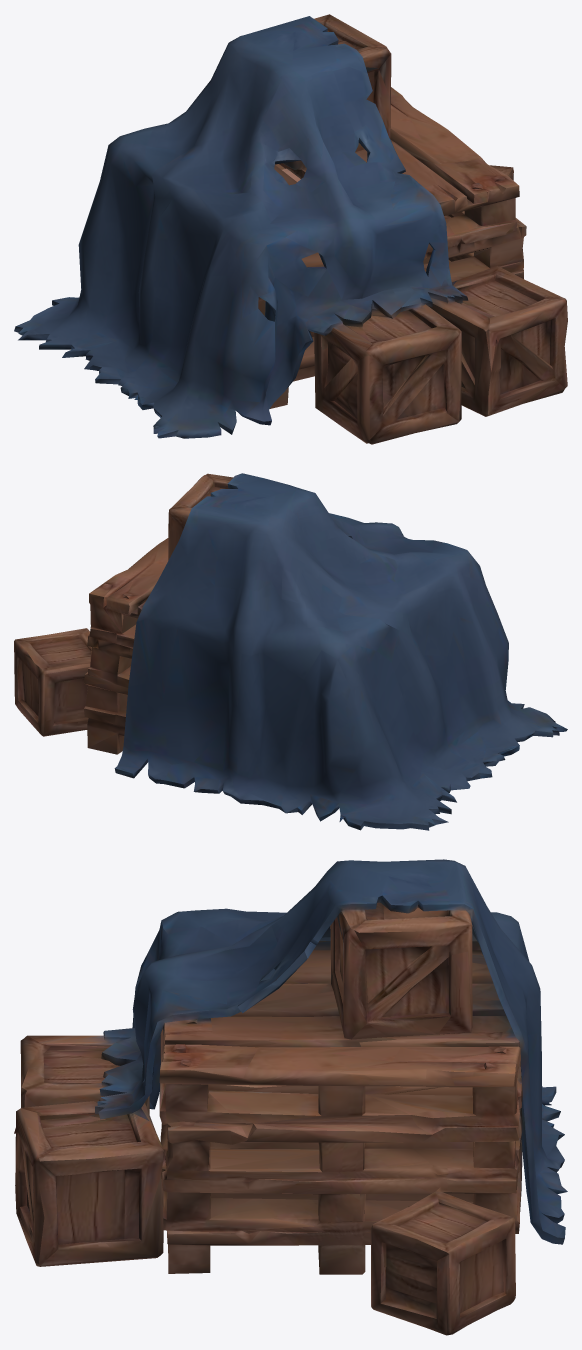
The model's file is isle_pallets_idle.glb.
3 renders of one model, top to bottom at view 1: azimuth 30°, elevation 25°; view 2: azimuth 150°, elevation 25°; view 3: azimuth 270°, elevation 25°, orthographic. The views are drawn at different scales.
Parts seen in each view (by area): view 1: tripo_node_5448c65a-e781-4282-9449-7ddf06916d65; view 2: tripo_node_5448c65a-e781-4282-9449-7ddf06916d65; view 3: tripo_node_5448c65a-e781-4282-9449-7ddf06916d65.
Boxes of the visible parts, x1=… form: tripo_node_5448c65a-e781-4282-9449-7ddf06916d65: x1=14, y1=14, x2=567, y2=444; tripo_node_5448c65a-e781-4282-9449-7ddf06916d65: x1=14, y1=473, x2=567, y2=830; tripo_node_5448c65a-e781-4282-9449-7ddf06916d65: x1=14, y1=859, x2=567, y2=1335.
Size of the model in its own units: 2.19 by 1.17 by 1.82.
1 material, 1 textured.
